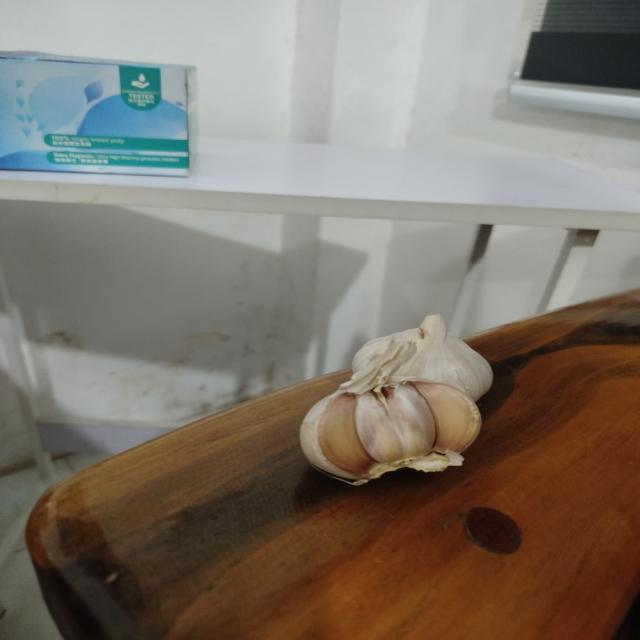garlic: (298, 314, 494, 486)
